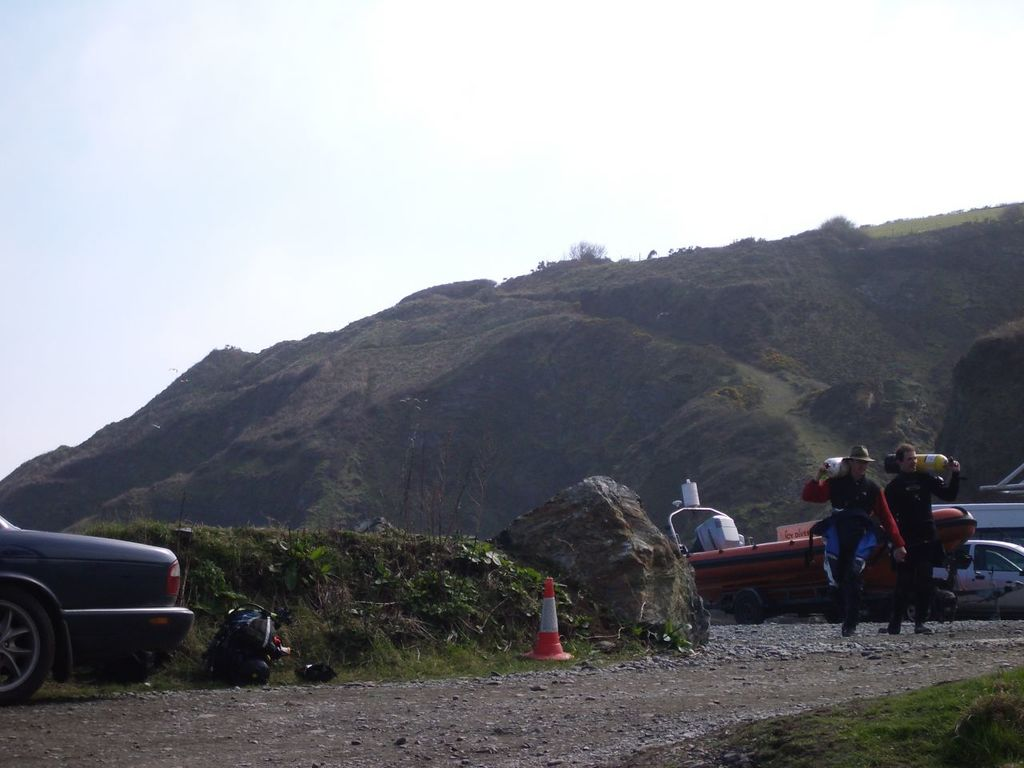Car: (0, 514, 194, 707), (903, 538, 1023, 624)
